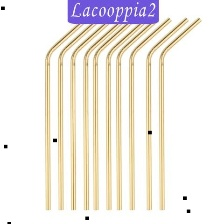drinking_straw: (152, 14, 204, 212)
